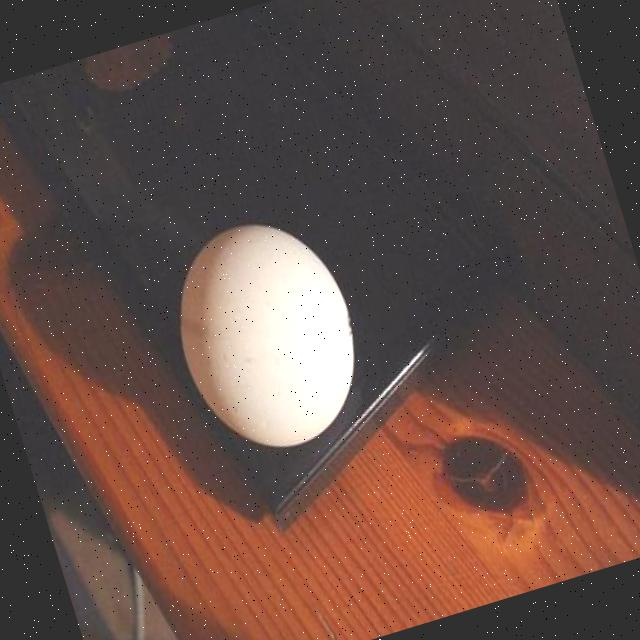ping-pong-ball: (150, 200, 385, 471)
